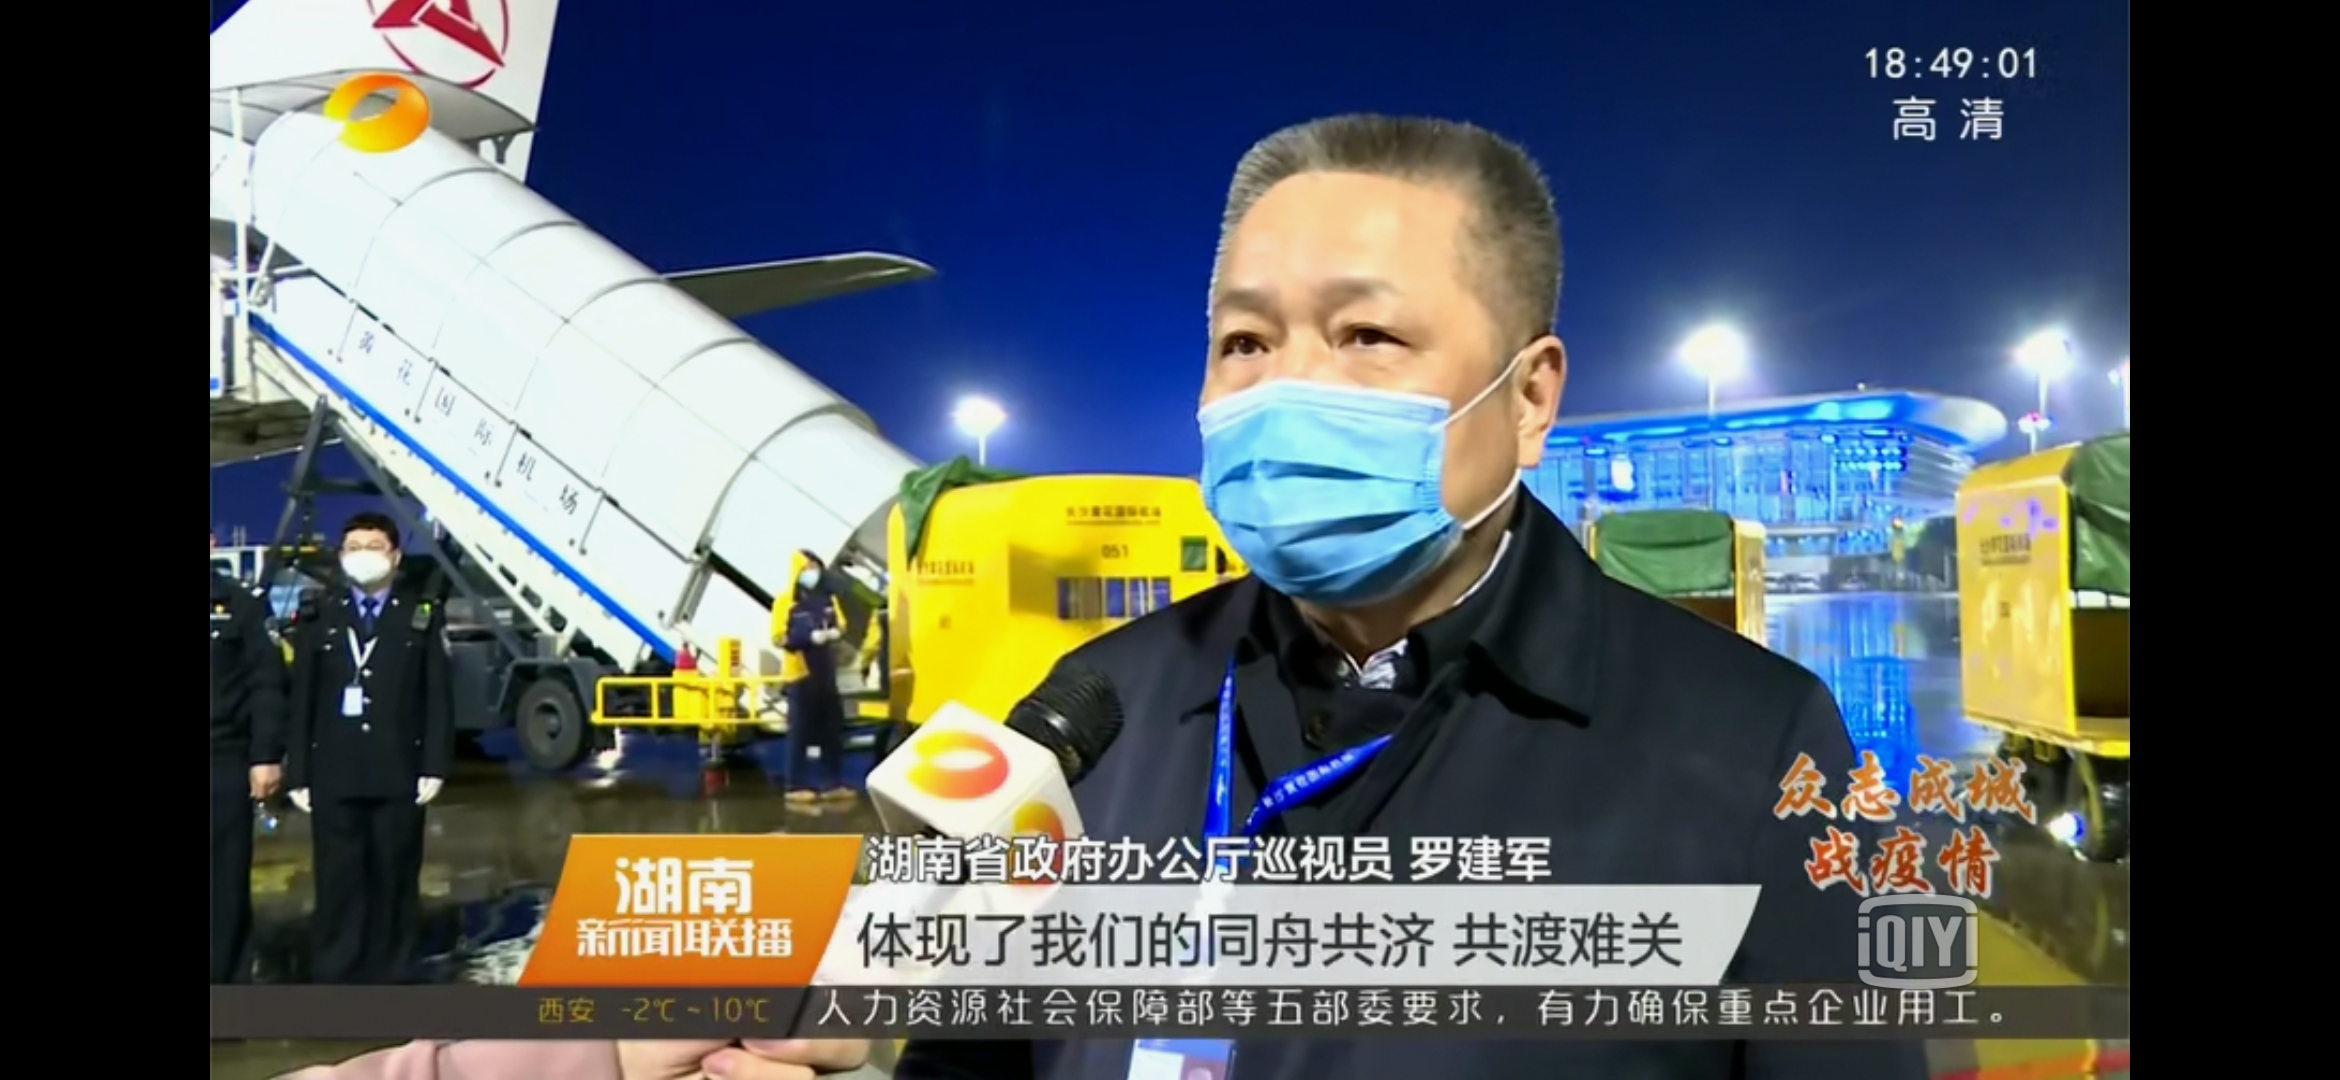correctlyWear: (1185, 269, 1564, 616), (340, 530, 401, 583), (798, 559, 822, 588)
